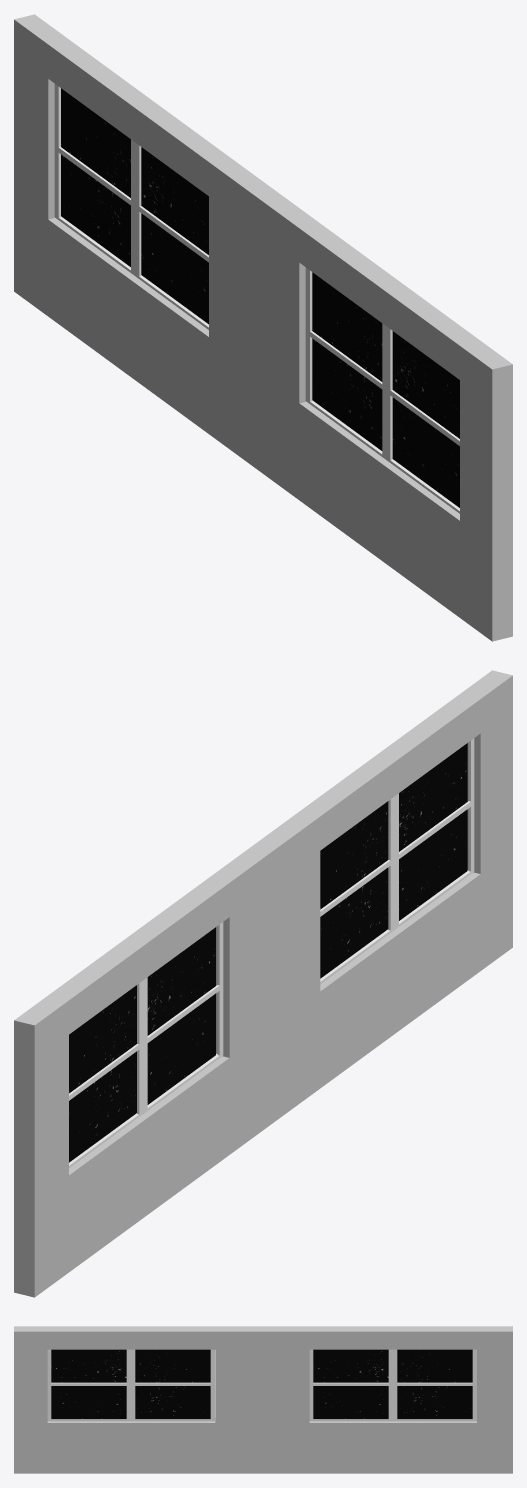
File: raam.fbx
3 renders of one model, top to bottom at view 1: azimuth 30°, elevation 25°; view 2: azimuth 150°, elevation 25°; view 3: azimuth 270°, elevation 25°, orthographic. The views are drawn at different scales.
Parts seen in each view (by area): view 1: Cube, ezgif.com-webp-to-png.001, ezgif.com-webp-to-png, Plane.001, Plane.058; view 2: Cube, ezgif.com-webp-to-png.001, ezgif.com-webp-to-png, Plane.058, Plane.001; view 3: Cube, ezgif.com-webp-to-png, ezgif.com-webp-to-png.001, Plane.058, Plane.001.
Boxes of the visible parts, box(x1,y1,x2,y2) form: Cube: box(14, 14, 512, 641); ezgif.com-webp-to-png.001: box(312, 272, 459, 507); ezgif.com-webp-to-png: box(61, 88, 208, 324); Plane.001: box(305, 267, 459, 513); Plane.058: box(54, 84, 208, 329); Cube: box(14, 670, 512, 1297); ezgif.com-webp-to-png.001: box(320, 743, 467, 978); ezgif.com-webp-to-png: box(69, 927, 215, 1162); Plane.058: box(69, 922, 223, 1167); Plane.001: box(320, 738, 474, 984); Cube: box(14, 1326, 512, 1473); ezgif.com-webp-to-png: box(313, 1349, 472, 1419); ezgif.com-webp-to-png.001: box(51, 1349, 210, 1419); Plane.058: box(309, 1349, 476, 1421); Plane.001: box(47, 1349, 214, 1421).
Bounding box in the file's own units: 200 × 2509 × 7994.
